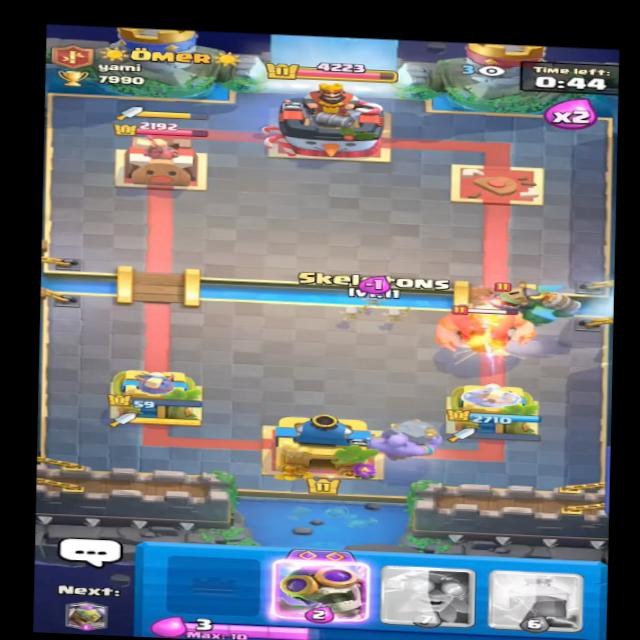giant: (436, 298, 537, 359)
